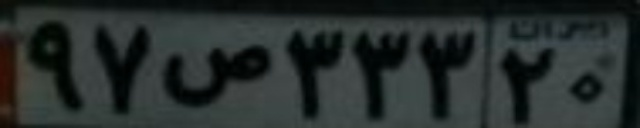0: (565, 70, 612, 104)
2: (500, 46, 556, 126)
3: (283, 27, 347, 122), (420, 27, 481, 120), (351, 31, 412, 121)
7: (95, 23, 151, 115)
9: (27, 21, 83, 111)
saat: (159, 44, 276, 109)
